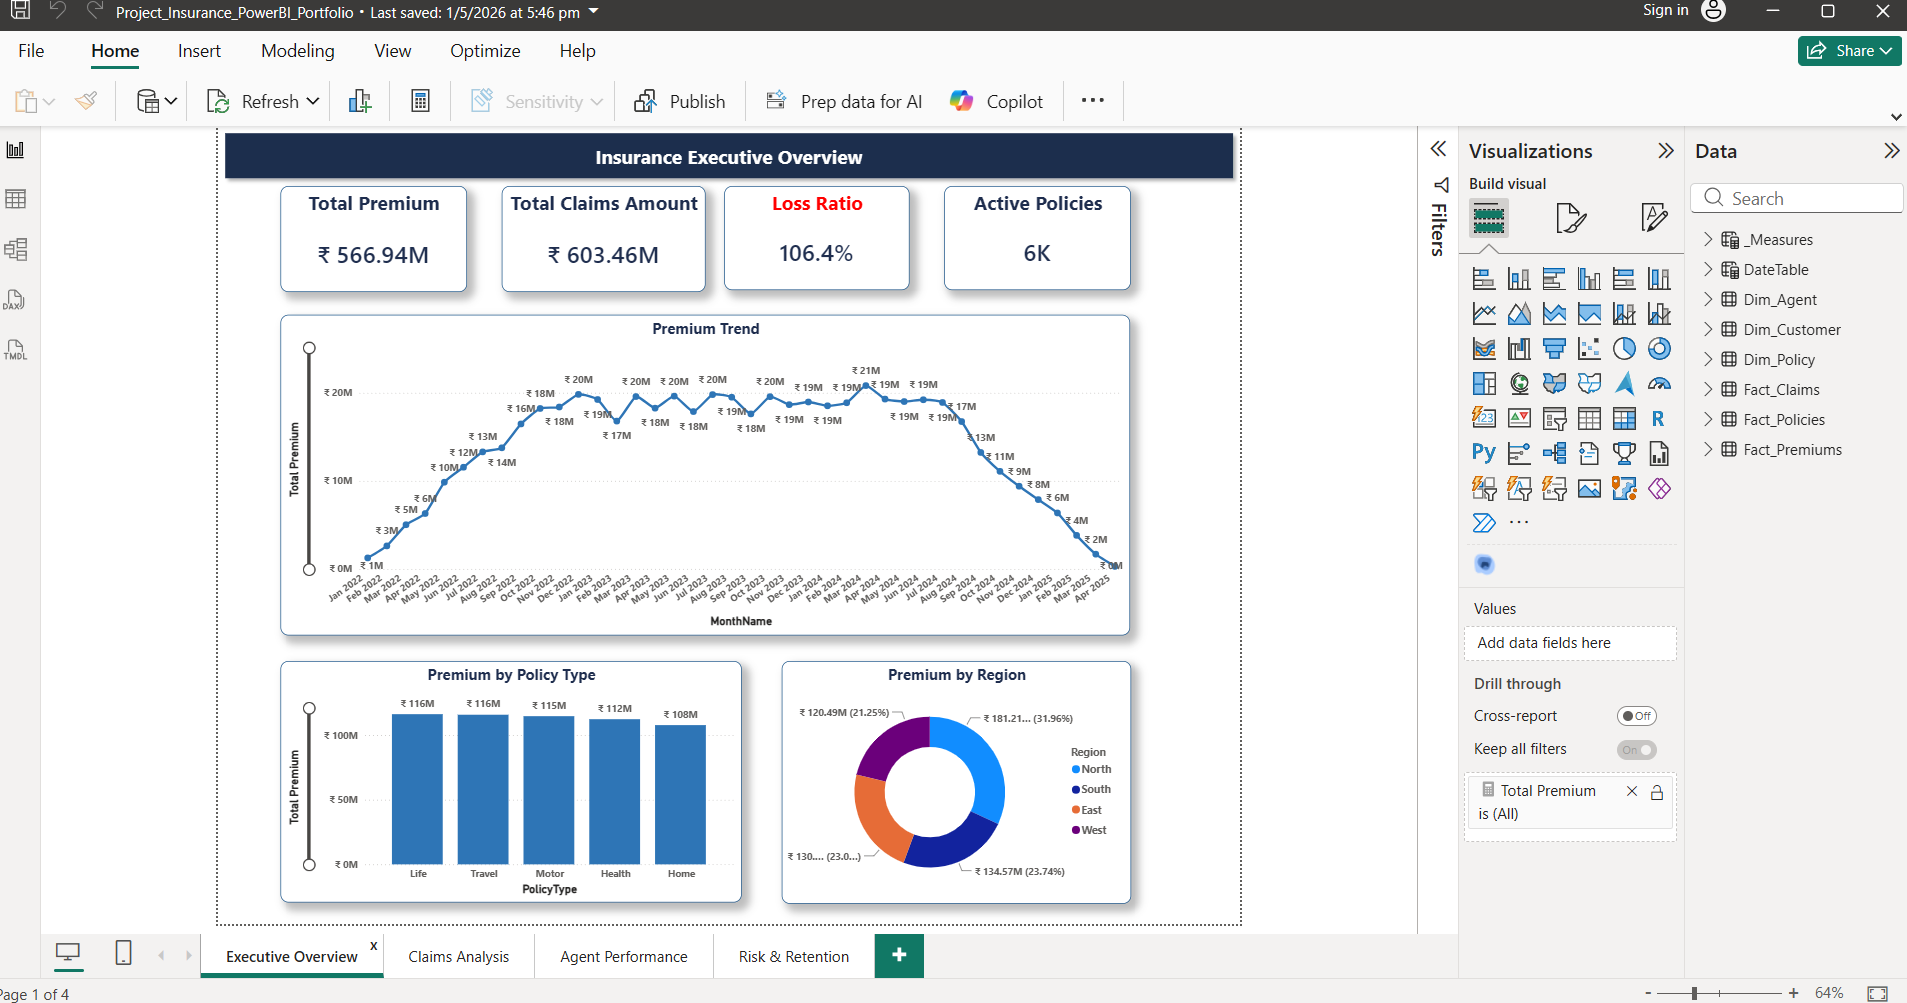

What the dashboard file says about the page in this screenshot:
{"tool":"powerbi","page":{"name":"Executive Overview","canvas":[1280,1000],"ordinal":0},"visuals":[{"type":"shape","box":[0,0,1280.2,74.4],"z":0},{"type":"cardVisual","title":"Total Premium","fields":{"Data":["_Measures.Total Premium"]},"box":[78.3,75.1,233.3,133.1],"z":1000},{"type":"cardVisual","title":"Total Claims Amount","fields":{"Data":["_Measures.Total Claims Amount"]},"box":[355.4,75.1,255.2,133.1],"z":2000},{"type":"cardVisual","title":"Loss Ratio","fields":{"Data":["_Measures.Loss Ratio %"]},"box":[633.3,74.7,232,130.7],"z":3000},{"type":"cardVisual","title":"Active Policies","fields":{"Data":["_Measures.Active Policies"]},"box":[909.3,74.7,233.3,130],"z":4000},{"type":"lineChart","title":"Premium Trend","fields":{"Y":["_Measures.Total Premium"],"Category":["DateTable.MonthName"]},"box":[78.7,236,1064,401.3],"z":5000},{"type":"clusteredColumnChart","title":"Premium by Policy Type","fields":{"Category":["Dim_Policy.PolicyType"],"Y":["_Measures.Total Premium"]},"box":[78.7,670.7,577.3,302.7],"z":6000},{"type":"donutChart","title":"Premium by Region","fields":{"Category":["Dim_Agent.Region"],"Y":["_Measures.Total Premium"]},"box":[705.3,669.3,437.3,304],"z":7000}]}

Visuals, with their boxes on the page's 1280x1000 design canvas (x1, y1, x2, y2). These are canvas units, not pixel positions in the 1907x1003 screenshot, which may show the page scaled, cropped or inside an application window:
shape: select_region(0, 0, 1280, 74)
"Total Premium" cardVisual: select_region(78, 75, 312, 208)
"Total Claims Amount" cardVisual: select_region(355, 75, 611, 208)
"Loss Ratio" cardVisual: select_region(633, 75, 865, 205)
"Active Policies" cardVisual: select_region(909, 75, 1143, 205)
"Premium Trend" lineChart: select_region(79, 236, 1143, 637)
"Premium by Policy Type" clusteredColumnChart: select_region(79, 671, 656, 973)
"Premium by Region" donutChart: select_region(705, 669, 1143, 973)
